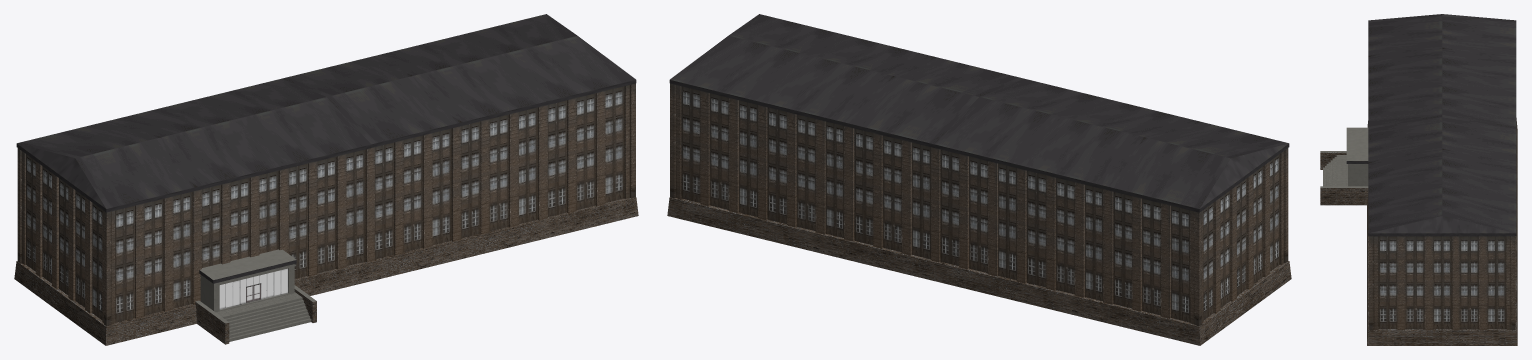
The model's file is factory_building_big.fbx.
The picture shows the model from 3 angles, left to right: view 1: azimuth 30°, elevation 25°; view 2: azimuth 150°, elevation 25°; view 3: azimuth 270°, elevation 25°; orthographic projection. The views are drawn at different scales.
Parts seen in each view (by area): view 1: factory_building_big; view 2: factory_building_big; view 3: factory_building_big.
Boxes of the visible parts, box(x1,y1,x2,y2) form: factory_building_big: box(14, 14, 638, 345); factory_building_big: box(667, 14, 1291, 345); factory_building_big: box(1320, 14, 1517, 345).
Size of the model in its own units: 7670 by 2070 by 2990.
